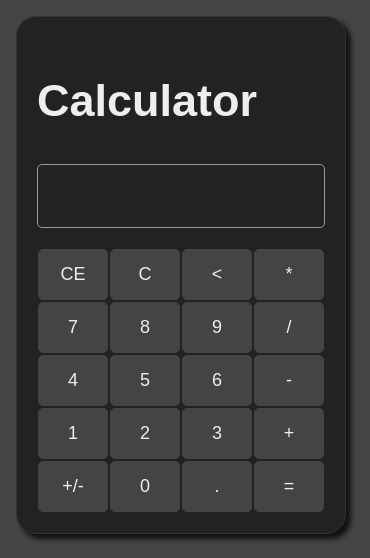
Scenario: Calculator › should calculate based on user input and show the result
Click the button "1": (73, 433) [38,408,108,459]
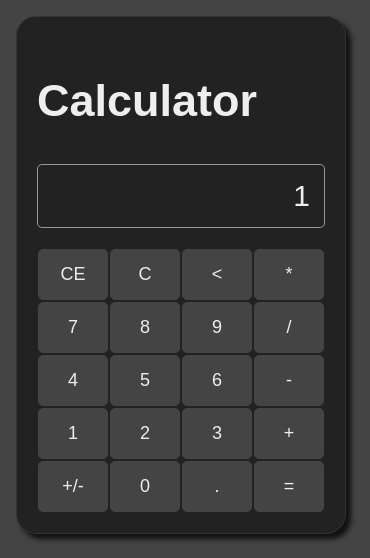
Now the field holds "1", box [37,164,325,228]
Click the button "+": (289, 433) [254,408,324,459]
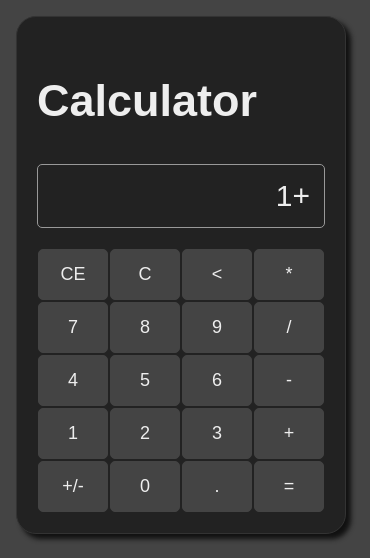
Click the button "2": (145, 433) [110,408,180,459]
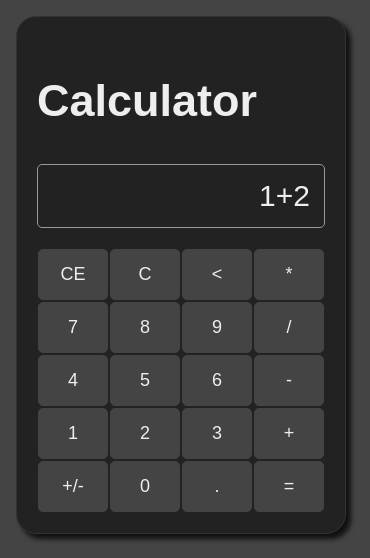
Click the button "=": (289, 486) [254,461,324,512]
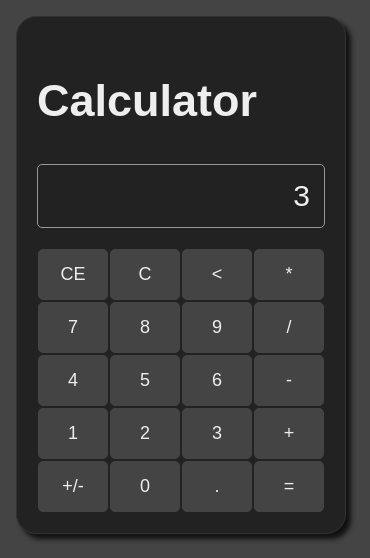
Now the field holds "3", box [37,164,325,228]
